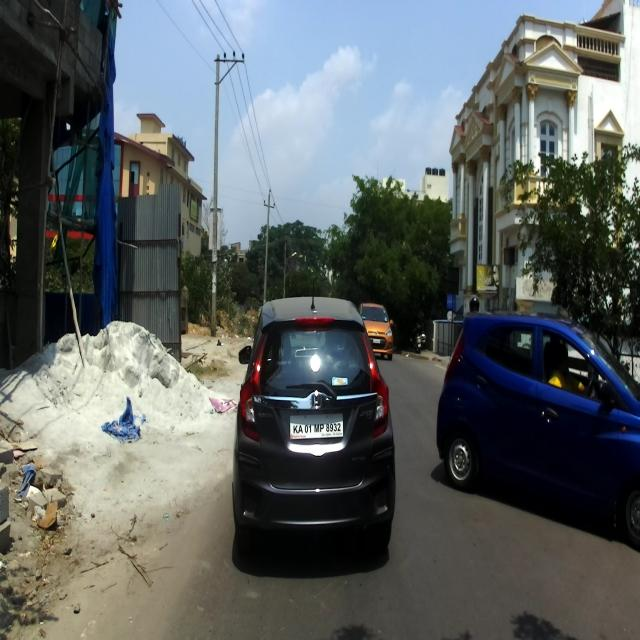Car_Honda: (231, 278, 396, 557)
Car_Hyundai: (435, 306, 640, 550), (358, 301, 394, 359)
